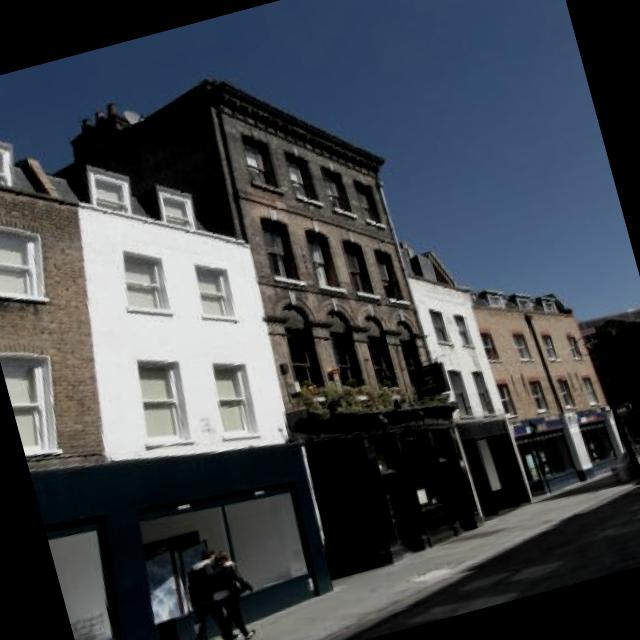Person: (174, 541, 256, 640), (200, 544, 269, 640)
